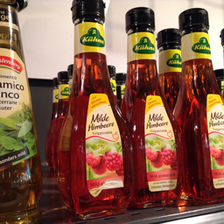vinegar: (58, 1, 137, 221), (123, 7, 184, 209), (171, 10, 224, 199), (1, 1, 45, 223)
